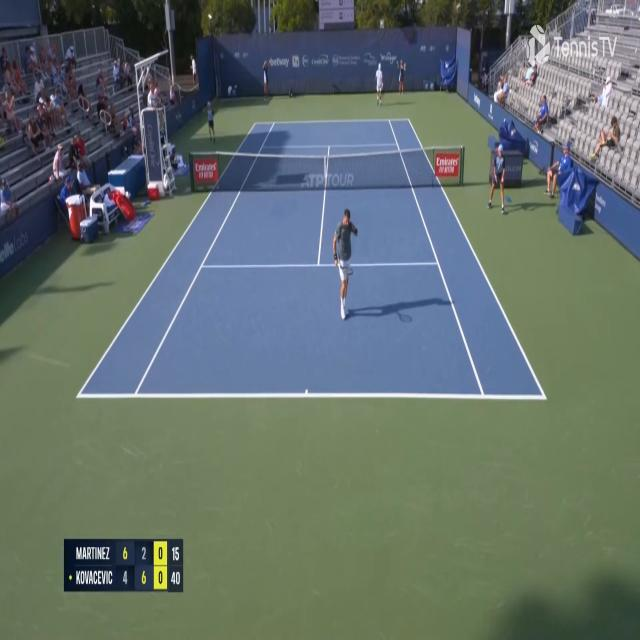tennis-player: (332, 208, 358, 324), (374, 61, 384, 108)
